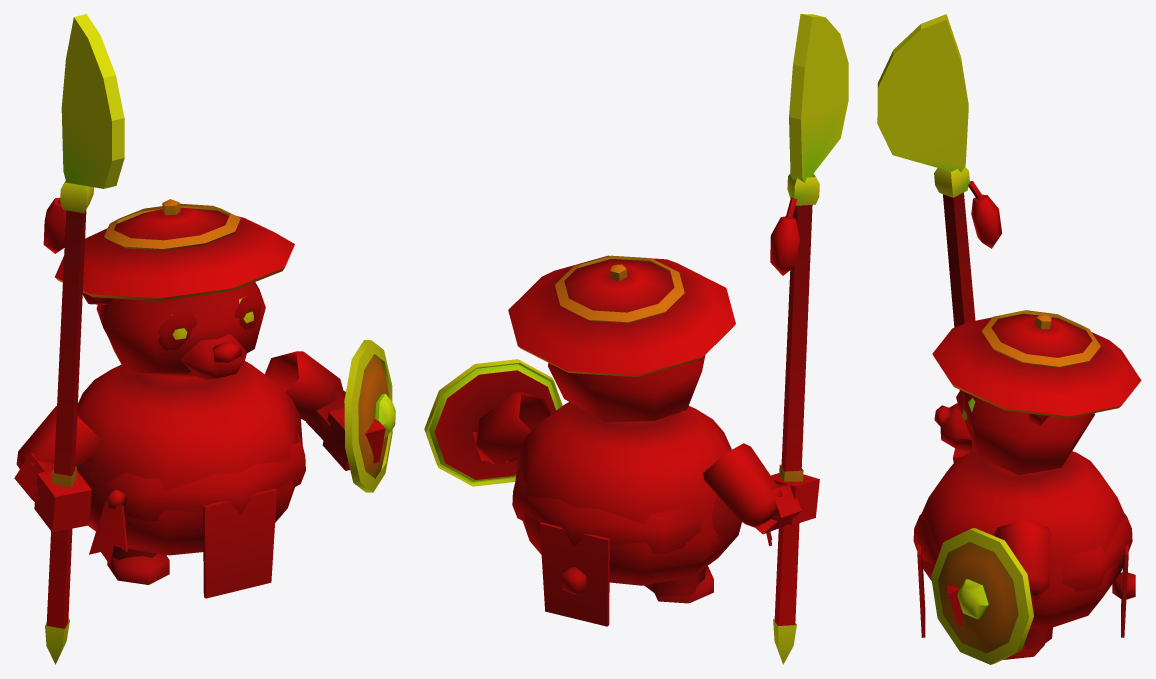
The model's file is BeastmanPandaWarrior_LOD1.glb.
3 renders of one model, left to right at view 1: azimuth 30°, elevation 25°; view 2: azimuth 150°, elevation 25°; view 3: azimuth 270°, elevation 25°, orthographic. The views are drawn at different scales.
Visible parts, largest first — view 1: BeastmanPandaWarrior_LOD1; view 2: BeastmanPandaWarrior_LOD1; view 3: BeastmanPandaWarrior_LOD1.
Part boxes in pixels (box(x1,y1,x2,y2)): BeastmanPandaWarrior_LOD1: box(14, 14, 395, 664); BeastmanPandaWarrior_LOD1: box(424, 14, 848, 664); BeastmanPandaWarrior_LOD1: box(877, 14, 1141, 664).
Bounding box in the file's own units: 0.9029 × 1.52 × 0.6015.
